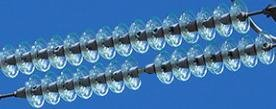gap: (122, 49, 174, 92)
